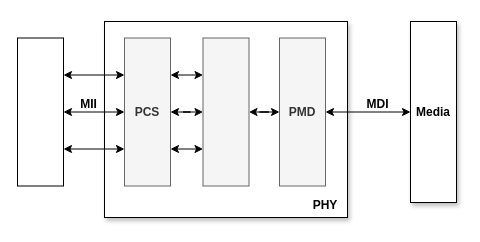
This 480x242 diagram has some shape labels left out. Here are the shapes that lost their labels. From the top down, the centre of each, then its label:
At point (40, 111): "MAC".
At point (225, 111): "PMA".
